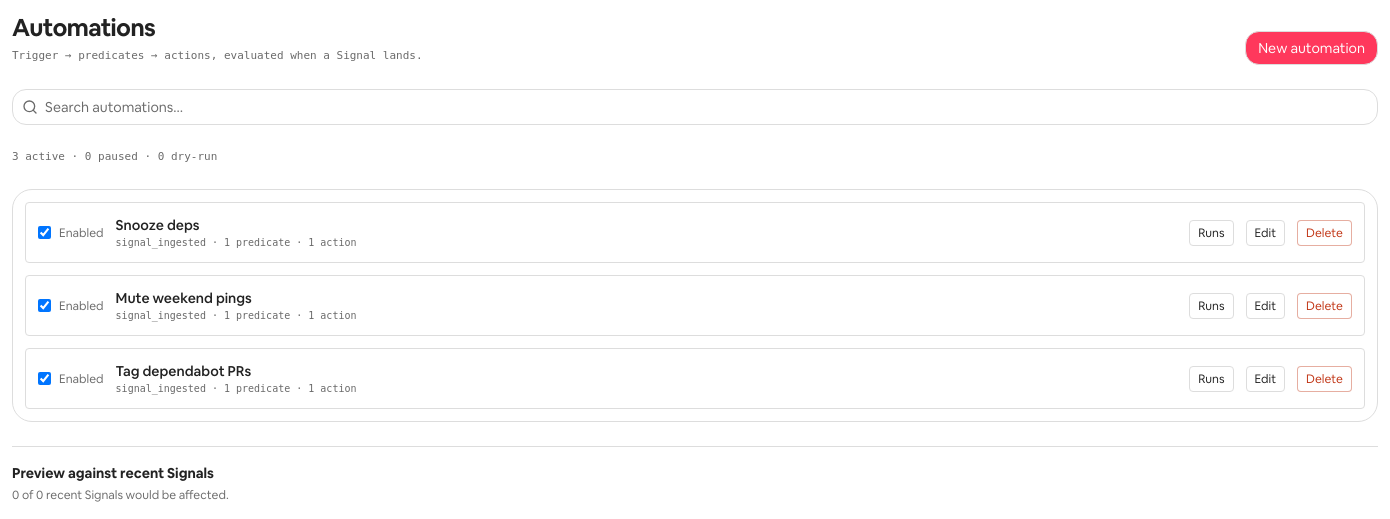
Scenario: AutomationsPanel search › filters cards by case-insensitive substring on name (uncontrolled)
Step 1. Type "DEP" into the search field labelled "Search automations" → (695, 106), box left=12, top=88, right=1378, bottom=124
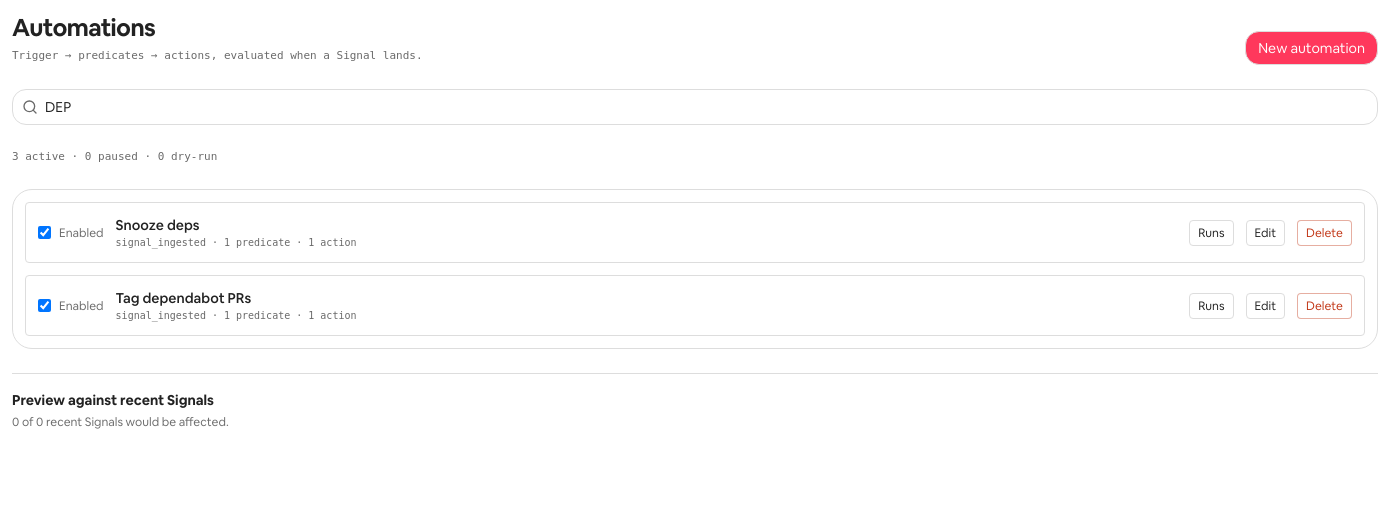
Expected: the text "Snooze deps" is shown, left=116, top=216, right=200, bottom=234
Expected: the text "Mute weekend pings" is gone
